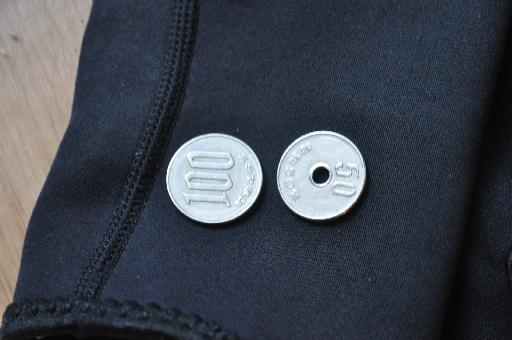100yen: (167, 134, 262, 223)
50yen: (277, 131, 366, 221)
